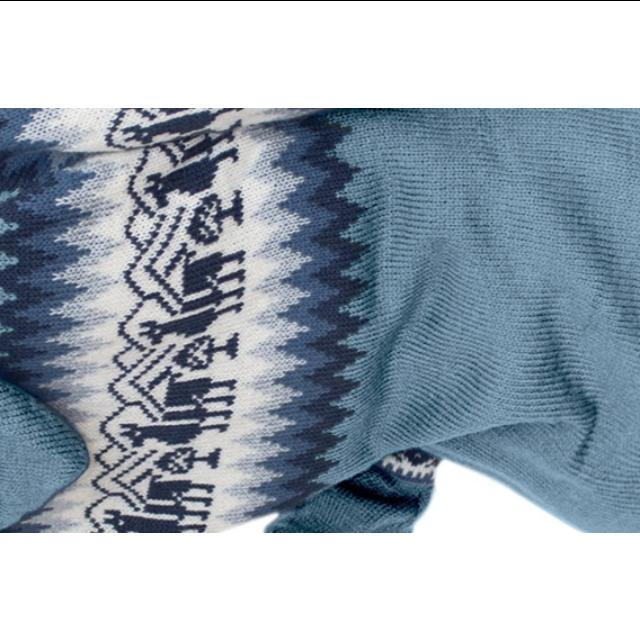wool: (0, 108, 640, 532)
